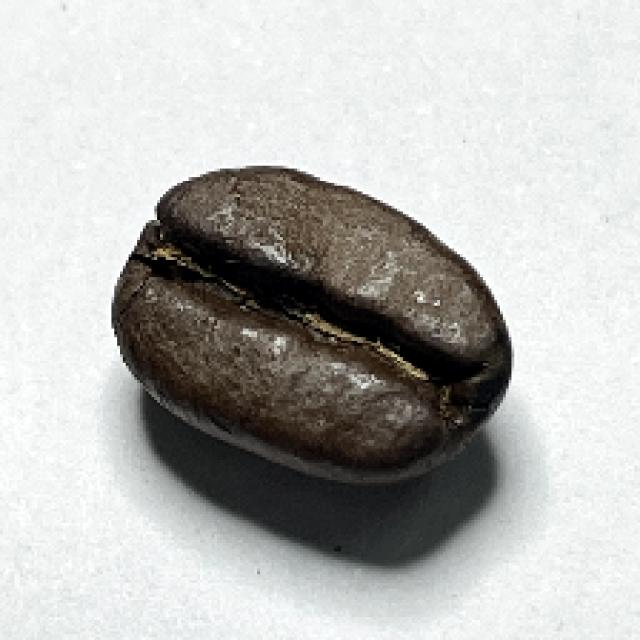bean: (106, 164, 511, 484)
